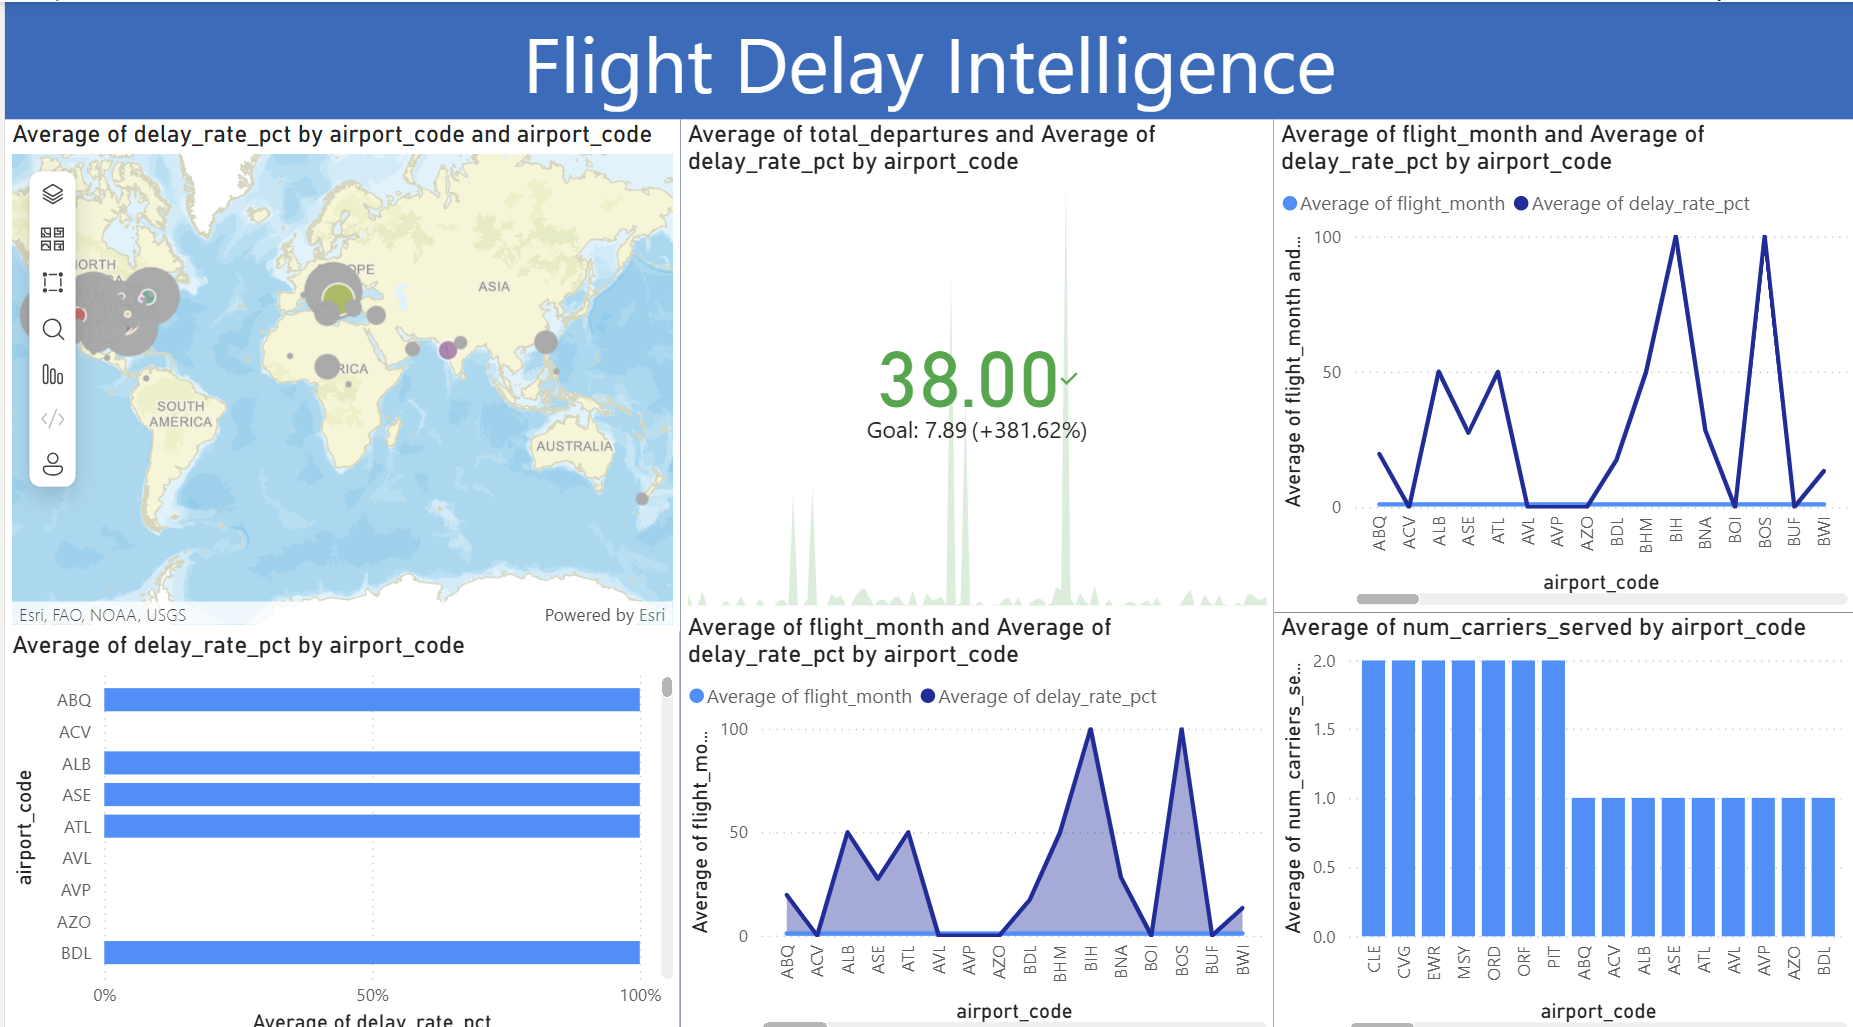

This screenshot's page, from the dashboard's own definition file:
{"tool":"powerbi","page":{"name":"Airport Operations","canvas":[1280,720],"ordinal":2},"visuals":[{"type":"textbox","box":[0,0,1280,80.9],"z":0},{"type":"esriVisual","fields":{"Location":["dim_airport.airport_code"],"Size":["Avg(mart_airport_operations.delay_rate_pct)"],"Color":["mart_airport_operations.airport_code"]},"box":[0,80.9,467.1,354.3],"z":1000},{"type":"hundredPercentStackedBarChart","fields":{"Category":["mart_airport_operations.airport_code"],"Y":["Avg(mart_airport_operations.delay_rate_pct)"]},"box":[0,435.2,467.1,284.4],"z":2000},{"type":"kpi","fields":{"TrendLine":["mart_airport_operations.airport_code"],"Indicator":["Avg(mart_airport_operations.total_departures)"],"Goal":["Avg(mart_airport_operations.delay_rate_pct)"]},"box":[467.4,81.1,410.5,341.5],"z":3000},{"type":"areaChart","fields":{"Y":["Avg(mart_airport_operations.flight_month)","Avg(mart_airport_operations.delay_rate_pct)"],"Category":["mart_airport_operations.airport_code"]},"box":[467.4,422.6,410.5,296.7],"z":4000},{"type":"lineChart","fields":{"Y":["Avg(mart_airport_operations.flight_month)","Avg(mart_airport_operations.delay_rate_pct)"],"Category":["mart_airport_operations.airport_code"]},"box":[878,81,402,341],"z":5000},{"type":"columnChart","fields":{"Category":["mart_airport_operations.airport_code"],"Y":["Avg(mart_airport_operations.num_carriers_served)"]},"box":[878,423,402,297],"z":6000}]}

Visuals, with their boxes on the page's 1280x720 design canvas (x1, y1, x2, y2). These are canvas units, not pixel positions in the 1853x1027 screenshot, which may show the page scaled, cropped or inside an application window:
textbox: 0:0:1280:81
esriVisual - dim_airport.airport_code x Avg(mart_airport_operations.delay_rate_pct): 0:81:467:435
hundredPercentStackedBarChart - mart_airport_operations.airport_code x Avg(mart_airport_operations.delay_rate_pct): 0:435:467:720
kpi - mart_airport_operations.airport_code x Avg(mart_airport_operations.total_departures): 467:81:878:423
areaChart - Avg(mart_airport_operations.flight_month) x Avg(mart_airport_operations.delay_rate_pct): 467:423:878:719
lineChart - Avg(mart_airport_operations.flight_month) x Avg(mart_airport_operations.delay_rate_pct): 878:81:1280:422
columnChart - mart_airport_operations.airport_code x Avg(mart_airport_operations.num_carriers_served): 878:423:1280:720
